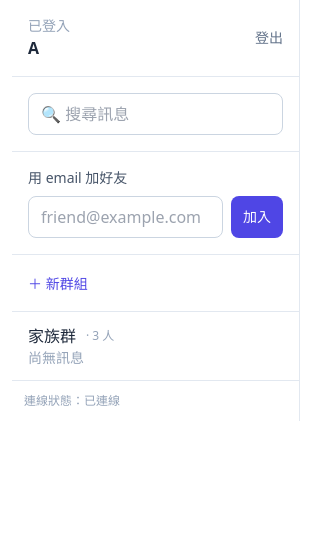
Test case: Sidebar 群組 › 點新群組展開建群面板
This screenshot has width=332, height=552.
Click the button "＋ 新群組": (58, 284) [28, 274, 88, 294]
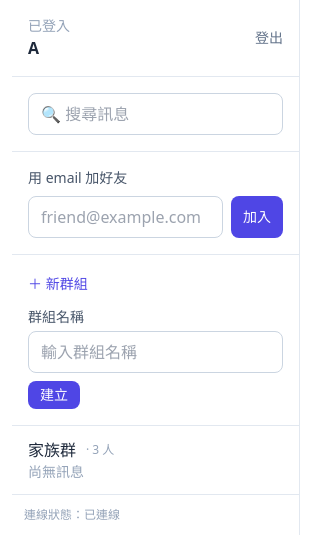
Now the field labelled "群組名稱" is shown, box [28, 331, 283, 373]
